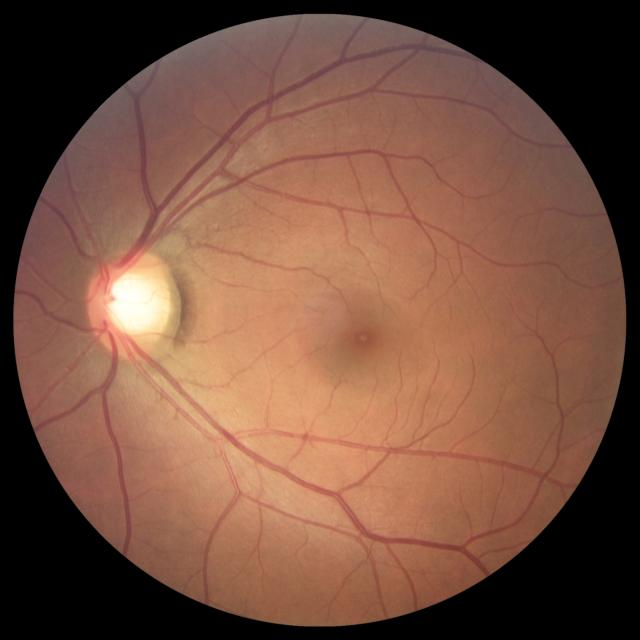OC: (105, 269, 161, 335)
OD: (87, 248, 174, 356)
